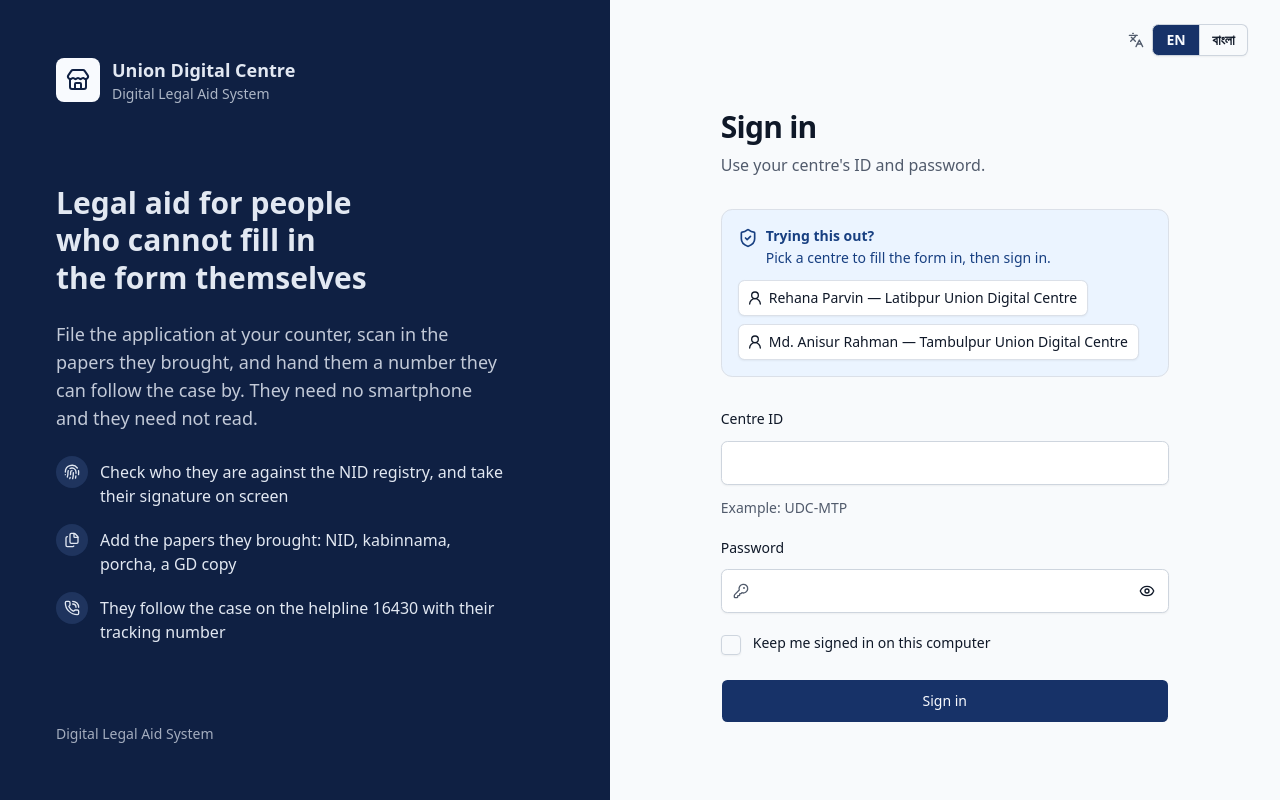
Test: signing in › signs a centre in and lands on Today
The demo button fills the form in: an entrepreneur should not have to type an ID.
Click the button "Rehana Parvin — Latibpur Union Digital Centre": (913, 298) x1=738 y1=280 x2=1088 y2=316
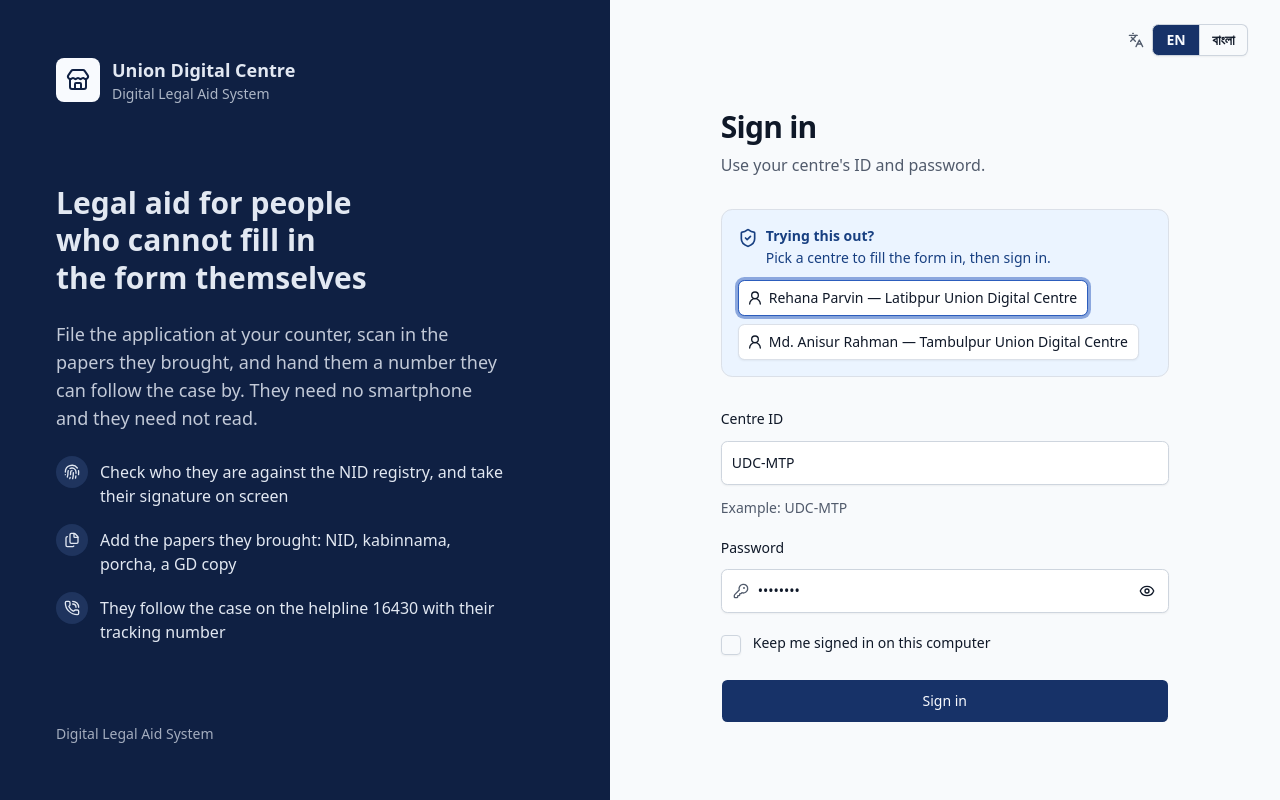
Click the button "Sign in": (945, 701) x1=721 y1=679 x2=1169 y2=723
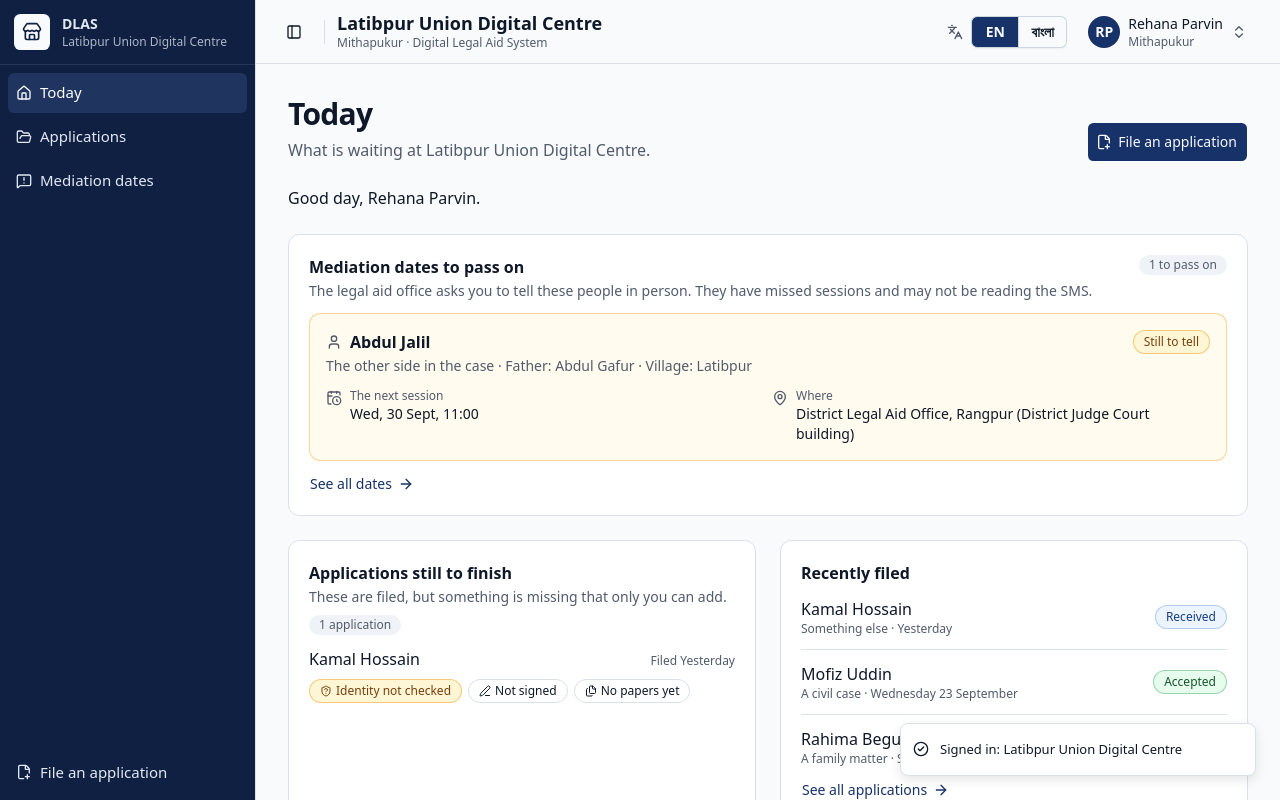
Result: the text "Good day, Rehana Parvin." is shown at x1=288 y1=187 x2=480 y2=209
Result: the heading "Today" is shown at x1=288 y1=93 x2=372 y2=134
Result: the text "Latibpur Union Digital Centre" below "DLAS" is shown at x1=62 y1=33 x2=227 y2=50
